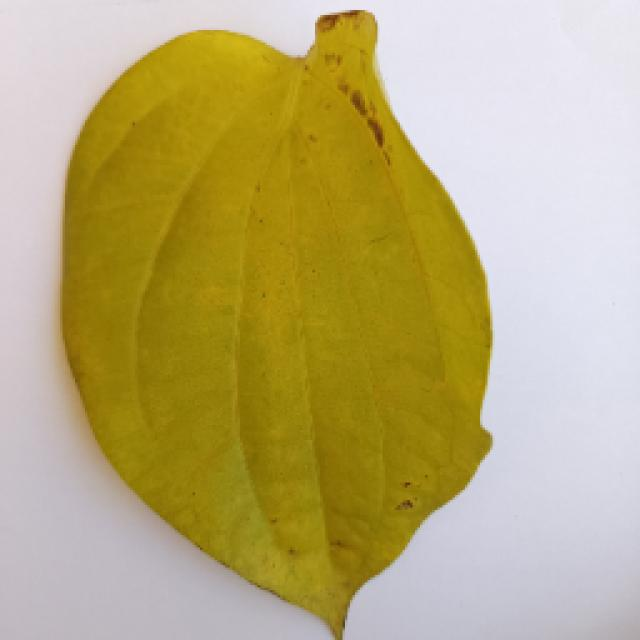slow-decline: (38, 30, 500, 638)
